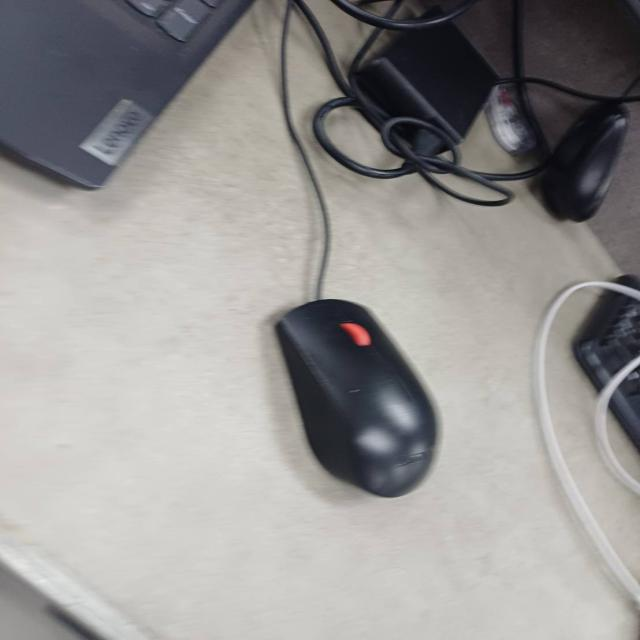mouse: (270, 295, 449, 504)
